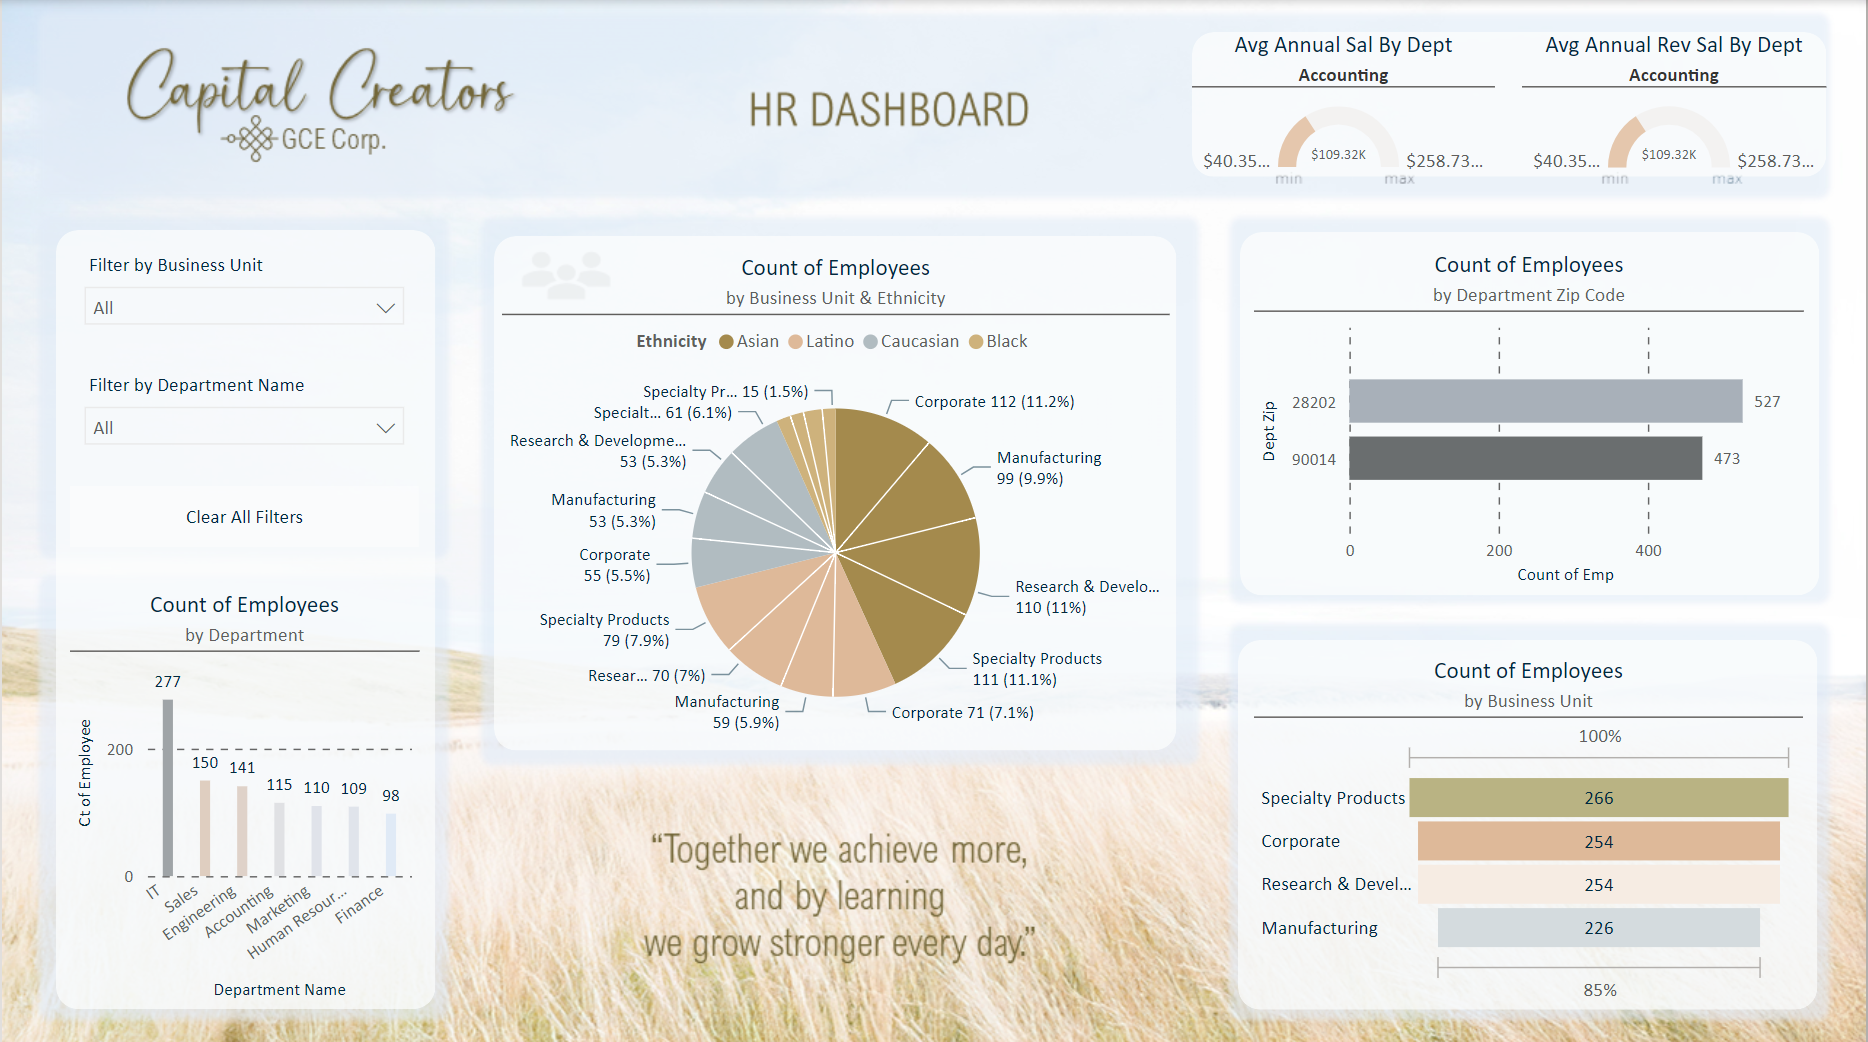

This screenshot's page, from the dashboard's own definition file:
{"tool":"powerbi","page":{"name":"Page 1","canvas":[1280,720],"ordinal":0},"visuals":[{"type":"slicer","fields":{"Values":["DepartmentSampleDataCSV.Department_Name"]},"box":[47,251,239.7,67.8],"z":0,"group":"g1"},{"type":"shape","box":[850,159.3,397.8,249.6],"z":0},{"type":"slicer","fields":{"Values":["EmployeeSampleDataCSV.Business_Unit"]},"box":[47,168.4,239.7,67.8],"z":1000,"group":"g1"},{"type":"shape","box":[338,162.3,468.6,353.3],"z":1000},{"type":"shape","box":[849.4,439.3,397.8,253.8],"z":1500},{"type":"shape","box":[36.6,158,260.5,535.1],"z":1750},{"type":"actionButton","box":[47,333.6,239.7,41.9],"z":2000,"group":"g1"},{"type":"pieChart","title":"Count of Employees","fields":{"Category":["EmployeeSampleDataCSV.Ethnicity"],"Y":["CountNonNull(EmployeeSampleDataCSV.Employee_ID)"],"Series":["EmployeeSampleDataCSV.Business_Unit"]},"box":[343.3,168.7,458.3,339.9],"z":2000},{"type":"funnel","title":"Count of Employees","fields":{"Y":["CountNonNull(EmployeeSampleDataCSV.Employee_ID)"],"Category":["EmployeeSampleDataCSV.Business_Unit"]},"box":[860.3,450.9,377.1,242.2],"z":3000},{"type":"clusteredBarChart","title":"Count of Employees","fields":{"Y":["CountNonNull(EmployeeSampleDataCSV.Employee_ID)"],"Category":["DepartmentSampleDataCSV.Dept_Zip"]},"box":[859.5,172.1,377.7,233.3],"z":4000},{"type":"shape","box":[817.6,21.4,435.7,99.5],"z":5000},{"type":"clusteredColumnChart","title":"Count of Employees","fields":{"Y":["CountNonNull(EmployeeSampleDataCSV.Employee_ID)"],"Category":["DepartmentSampleDataCSV.Department_Name"]},"box":[46.4,405.2,239.8,284.9],"z":6000},{"type":"gauge","title":"Avg Annual Sal By Dept","fields":{"Y":["Avg(EmployeeSampleDataCSV.Annual_Salary)"],"MinValue":["Min(EmployeeSampleDataCSV.Annual_Salary)1"],"MaxValue":["Max(EmployeeSampleDataCSV.Annual_Salary)2"]},"box":[817.2,20.6,208,111],"z":7000},{"type":"gauge","title":"Avg Annual Rev Sal By Dept","fields":{"MinValue":["Min(EmployeeSampleDataCSV.Annual_Salary)1"],"MaxValue":["Max(EmployeeSampleDataCSV.Annual_Salary)2"],"Y":["Avg(EmployeeSampleDataCSV.ReviseSal)"]},"box":[1043.8,20.6,208.8,111.2],"z":8000},{"type":"group","id":"g1","title":"Group 2","box":[47,168.4,239.8,206.8],"z":9000}]}

Visuals, with their boxes in screenshot pixels (x1, y1, x2, y2), scaled from the page's 1280x720 canvas onto the 1868x1042 screenshot:
slicer - DepartmentSampleDataCSV.Department_Name: <region>69, 363, 418, 461</region>
shape: <region>1240, 231, 1821, 592</region>
slicer - EmployeeSampleDataCSV.Business_Unit: <region>69, 244, 418, 342</region>
shape: <region>493, 235, 1177, 746</region>
shape: <region>1240, 636, 1820, 1003</region>
shape: <region>53, 229, 434, 1003</region>
actionButton: <region>69, 483, 418, 543</region>
"Count of Employees" pieChart: <region>501, 244, 1170, 736</region>
"Count of Employees" funnel: <region>1256, 653, 1806, 1003</region>
"Count of Employees" clusteredBarChart: <region>1254, 249, 1806, 587</region>
shape: <region>1193, 31, 1829, 175</region>
"Count of Employees" clusteredColumnChart: <region>68, 586, 418, 999</region>
"Avg Annual Sal By Dept" gauge: <region>1193, 30, 1496, 190</region>
"Avg Annual Rev Sal By Dept" gauge: <region>1523, 30, 1828, 191</region>
"Group 2" group: <region>69, 244, 419, 543</region>
